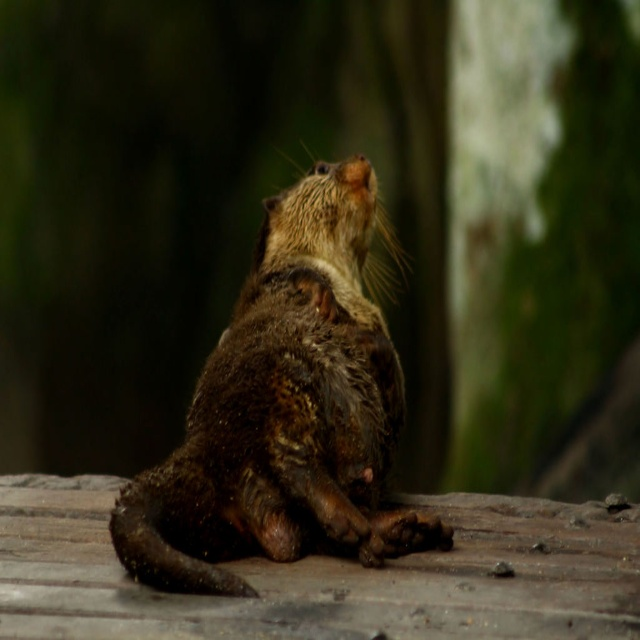Otter: (108, 142, 455, 598)
